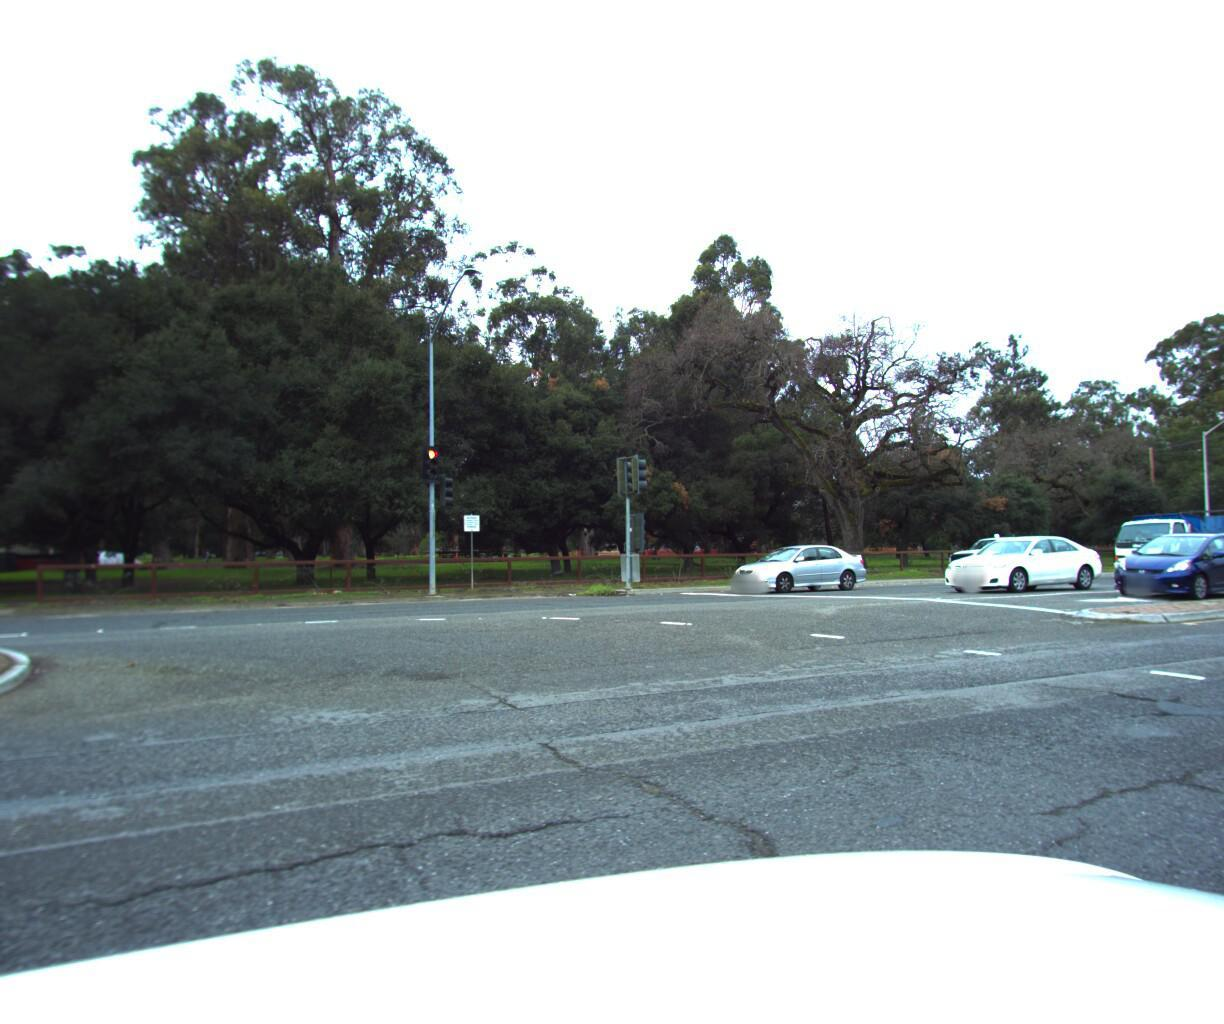car: (929, 528, 1110, 592), (1095, 525, 1224, 597), (723, 539, 866, 591), (939, 529, 1048, 573), (1157, 529, 1224, 582)
truck: (1094, 499, 1224, 574)
